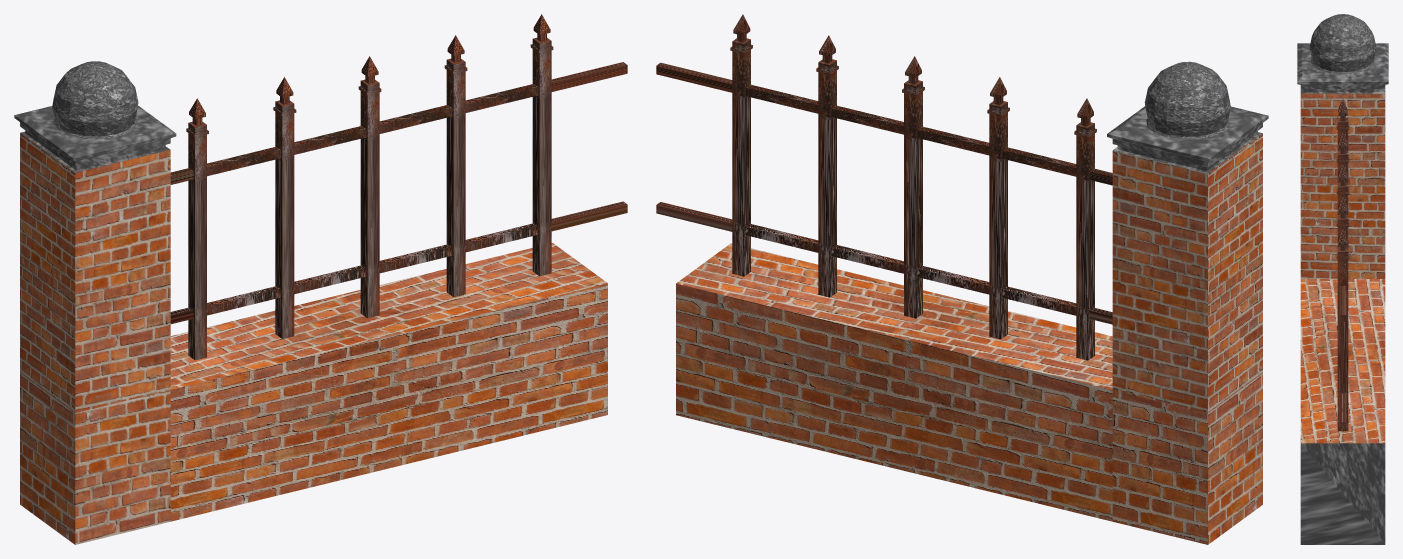
File: Perimeter.fbx
The picture shows the model from 3 angles, left to right: view 1: azimuth 30°, elevation 25°; view 2: azimuth 150°, elevation 25°; view 3: azimuth 270°, elevation 25°; orthographic projection. The views are drawn at different scales.
Parts seen in each view (by area): view 1: Perimeter_LOD0; view 2: Perimeter_LOD0; view 3: Perimeter_LOD0.
Part boxes in pixels (<box>): Perimeter_LOD0: <box>14,14,627,544</box>; Perimeter_LOD0: <box>656,14,1268,544</box>; Perimeter_LOD0: <box>1297,14,1388,544</box>.
Size of what is drawn, in the model's own units: 2032 by 1496 by 359.
